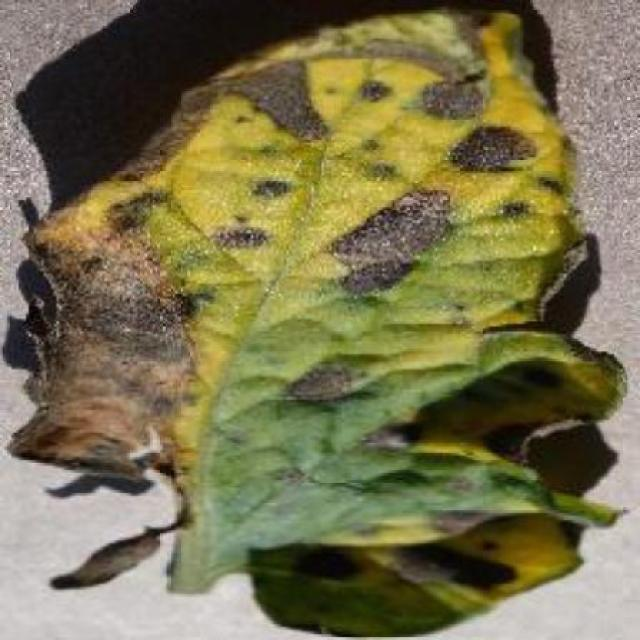Early Blight: (11, 15, 623, 638)
